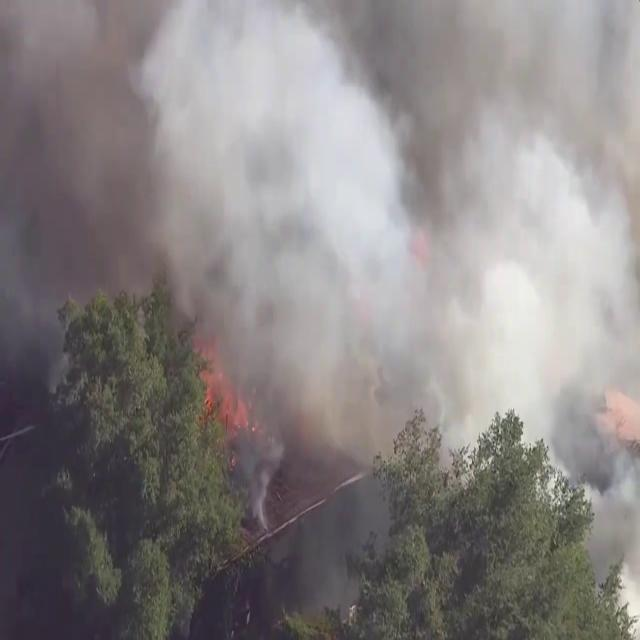Smoke: (11, 0, 638, 619)
